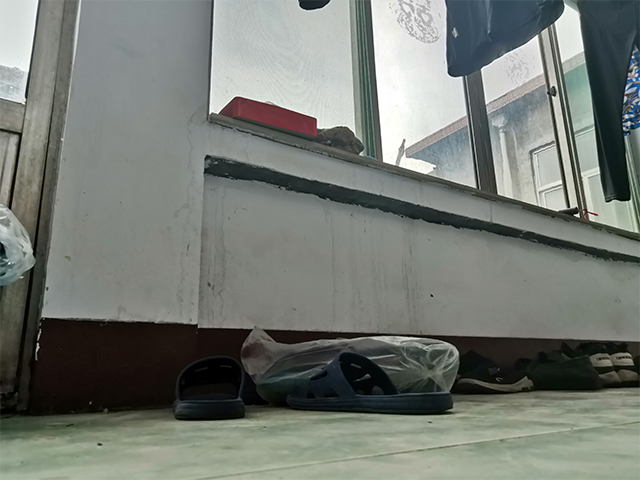slippers: (283, 349, 455, 412), (171, 356, 249, 423)
